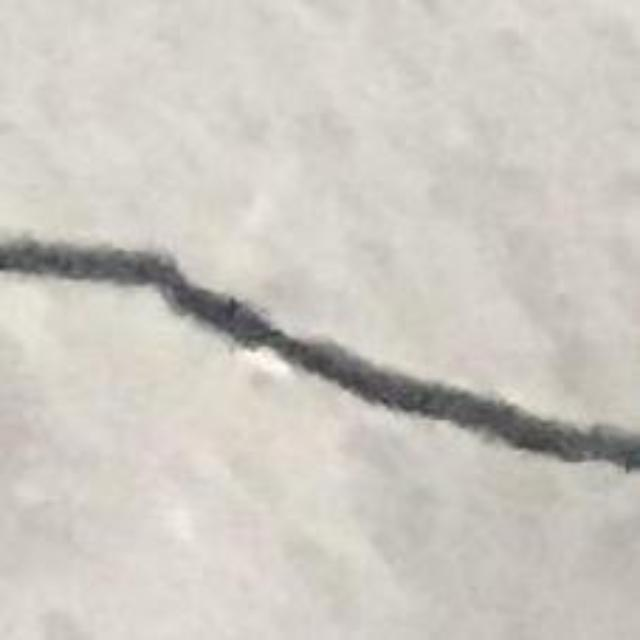crack: (0, 237, 639, 470)
